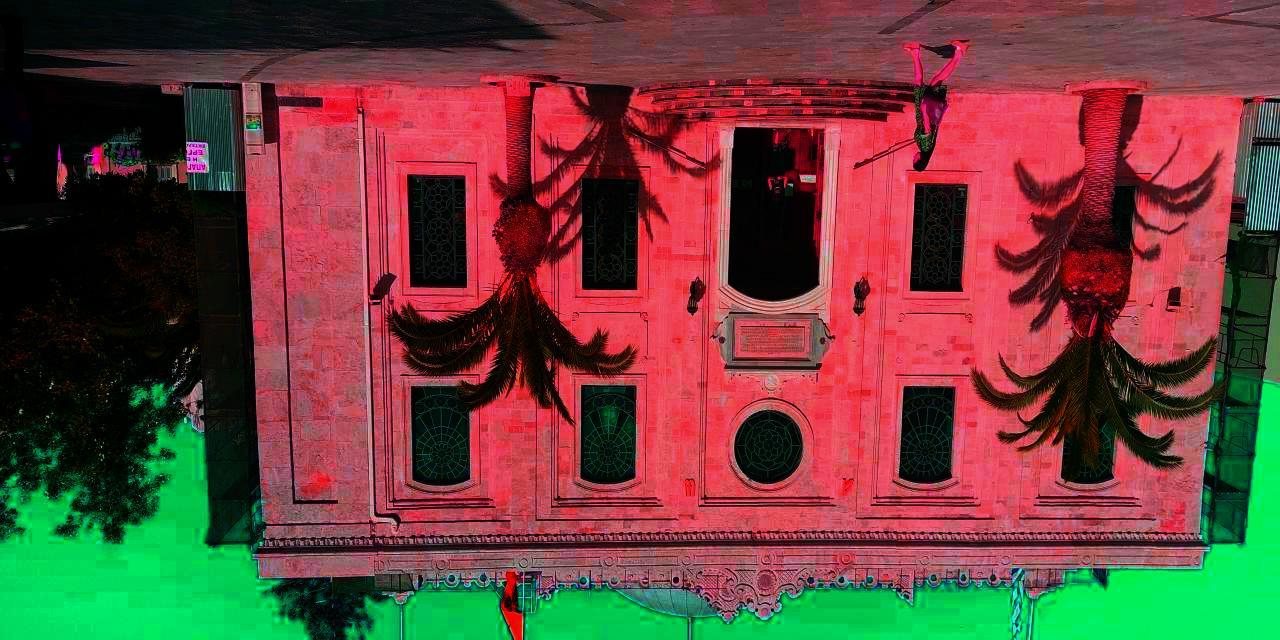Agios Titos: (246, 76, 1224, 611)
